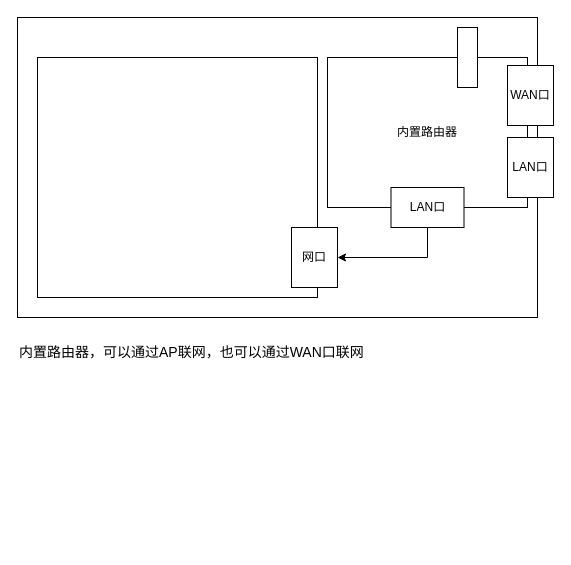
Image size: 571x565. Some labels were removed from this diagram. The box of each missing label's shape, as (x1, y1, x2, y2) in pixels:
天线: (456, 26, 478, 88)
安卓板: (36, 56, 318, 298)
资源宝板子: (16, 16, 538, 318)
